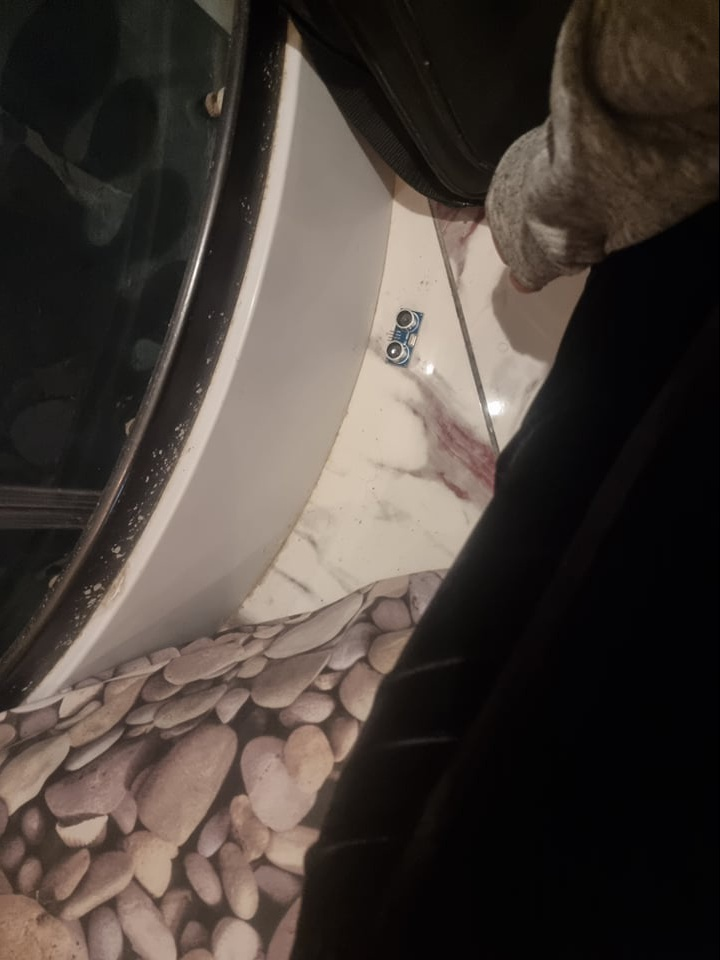SENSOR: (386, 307, 420, 363)
